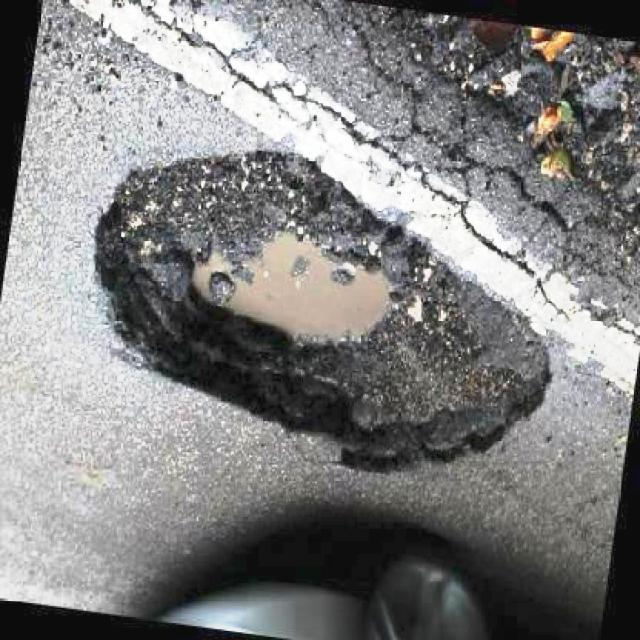pothole: (100, 145, 552, 477), (347, 4, 640, 295)
